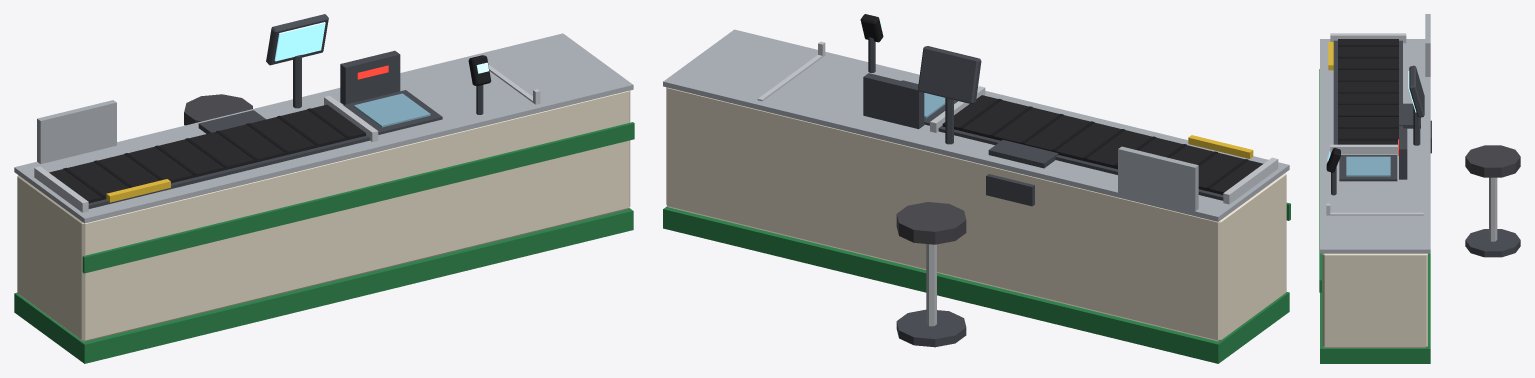
The model's file is Checkout_Lane_Conveyor_Market.fbx.
3 views of the same model, side by side, from view 1: azimuth 30°, elevation 25°; view 2: azimuth 150°, elevation 25°; view 3: azimuth 270°, elevation 25° (orthographic). The views are drawn at different scales.
Visible parts, largest first — view 1: Checkout_Lane_Conveyor_Market, Checkout_Lane_Conveyor_Market_Belt; view 2: Checkout_Lane_Conveyor_Market, Checkout_Lane_Conveyor_Market_Belt; view 3: Checkout_Lane_Conveyor_Market, Checkout_Lane_Conveyor_Market_Belt.
Part boxes in pixels (x1,y1,x2,y2): Checkout_Lane_Conveyor_Market: [14, 14, 634, 363]; Checkout_Lane_Conveyor_Market_Belt: [49, 104, 365, 203]; Checkout_Lane_Conveyor_Market: [663, 14, 1290, 363]; Checkout_Lane_Conveyor_Market_Belt: [942, 95, 1263, 194]; Checkout_Lane_Conveyor_Market: [1319, 14, 1520, 363]; Checkout_Lane_Conveyor_Market_Belt: [1338, 39, 1398, 144].
Bounding box in the file's own units: 3.61 × 1.46 × 1.46.
Materials: 1 (1 with a texture image).
